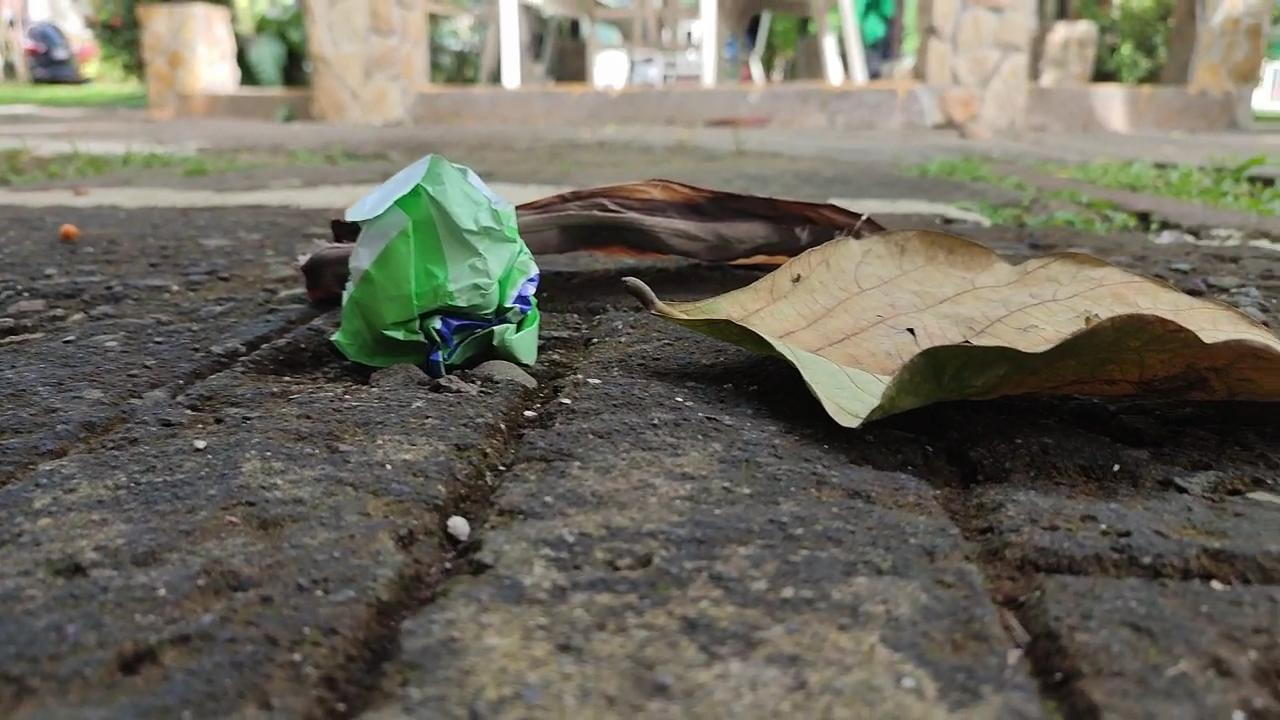Paper: (323, 139, 544, 398)
